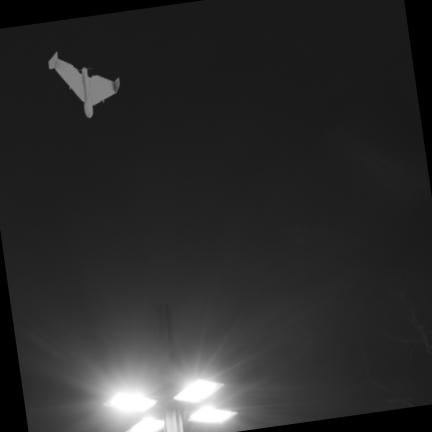Shahed: (48, 52, 119, 117)
